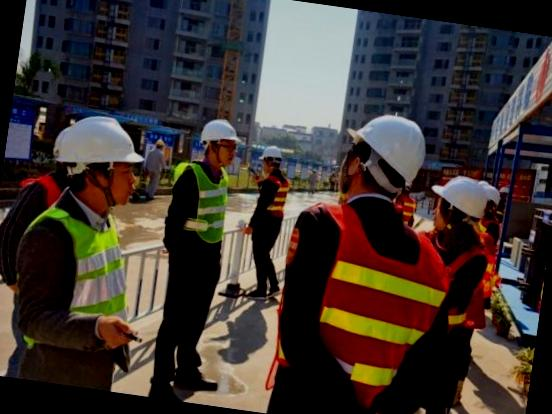helmet: (46, 108, 152, 192), (333, 106, 431, 194), (425, 168, 495, 232), (194, 114, 246, 161)
person: (258, 100, 476, 414), (17, 108, 159, 390), (142, 112, 248, 404), (237, 148, 296, 300)
